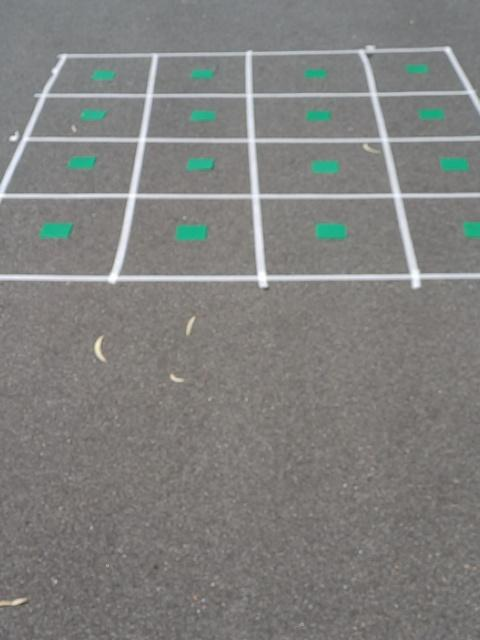weed: (312, 217, 349, 246), (172, 219, 213, 244), (34, 219, 76, 242), (437, 152, 474, 178), (414, 101, 452, 126), (181, 153, 221, 174), (310, 153, 341, 180), (299, 62, 333, 84), (188, 104, 218, 127), (300, 108, 337, 126), (66, 152, 96, 174), (401, 58, 432, 78), (89, 67, 120, 84), (76, 107, 110, 122), (188, 66, 217, 81), (462, 217, 480, 241)
